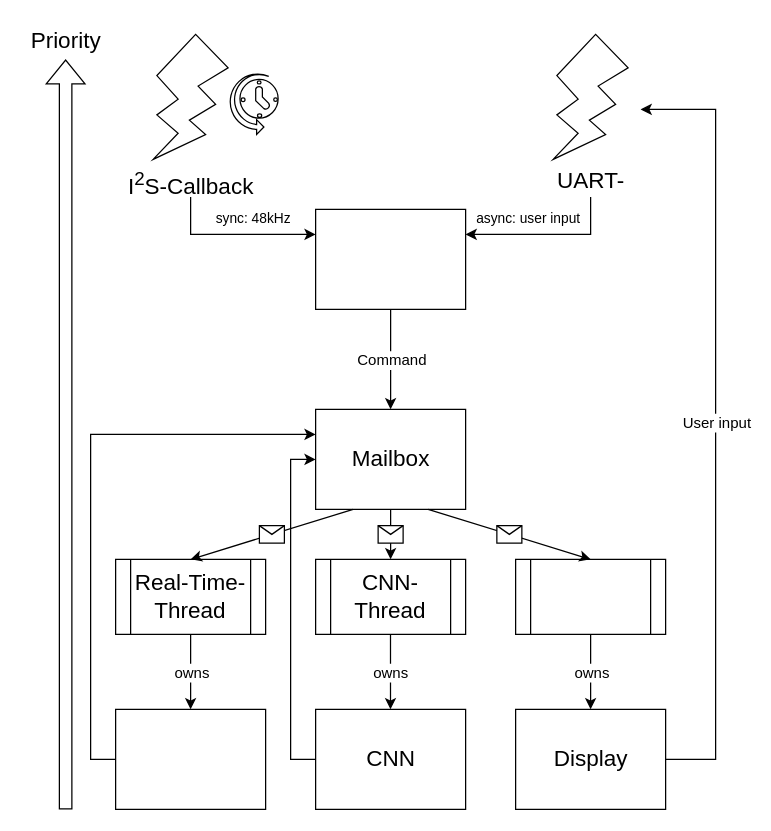
The diagram is 771 pixels wide and 831 high, and some of its shapes have lost their labels. Each missing label, with the box of its shape:
Core: (314, 208, 466, 309)
Filterbank: (114, 708, 266, 809)
UI-Thread: (514, 558, 666, 634)
